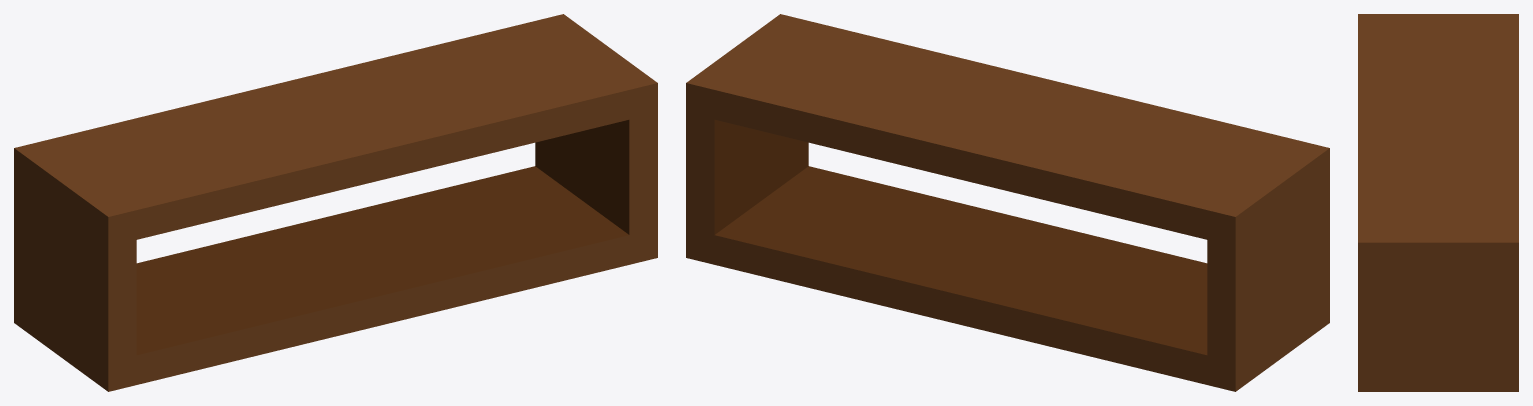
The model's file is Shelf2.fbx.
3 views of the same model, side by side, from view 1: azimuth 30°, elevation 25°; view 2: azimuth 150°, elevation 25°; view 3: azimuth 270°, elevation 25° (orthographic). The views are drawn at different scales.
Visible parts, largest first — view 1: Prop_WallShelf_09; view 2: Prop_WallShelf_09; view 3: Prop_WallShelf_09.
Part boxes in pixels (<box>): Prop_WallShelf_09: <box>14,14,657,391</box>; Prop_WallShelf_09: <box>686,14,1329,391</box>; Prop_WallShelf_09: <box>1358,14,1518,391</box>.
Bounding box in the file's own units: 36.57 × 11.13 × 10.87.
1 material, 1 textured.
